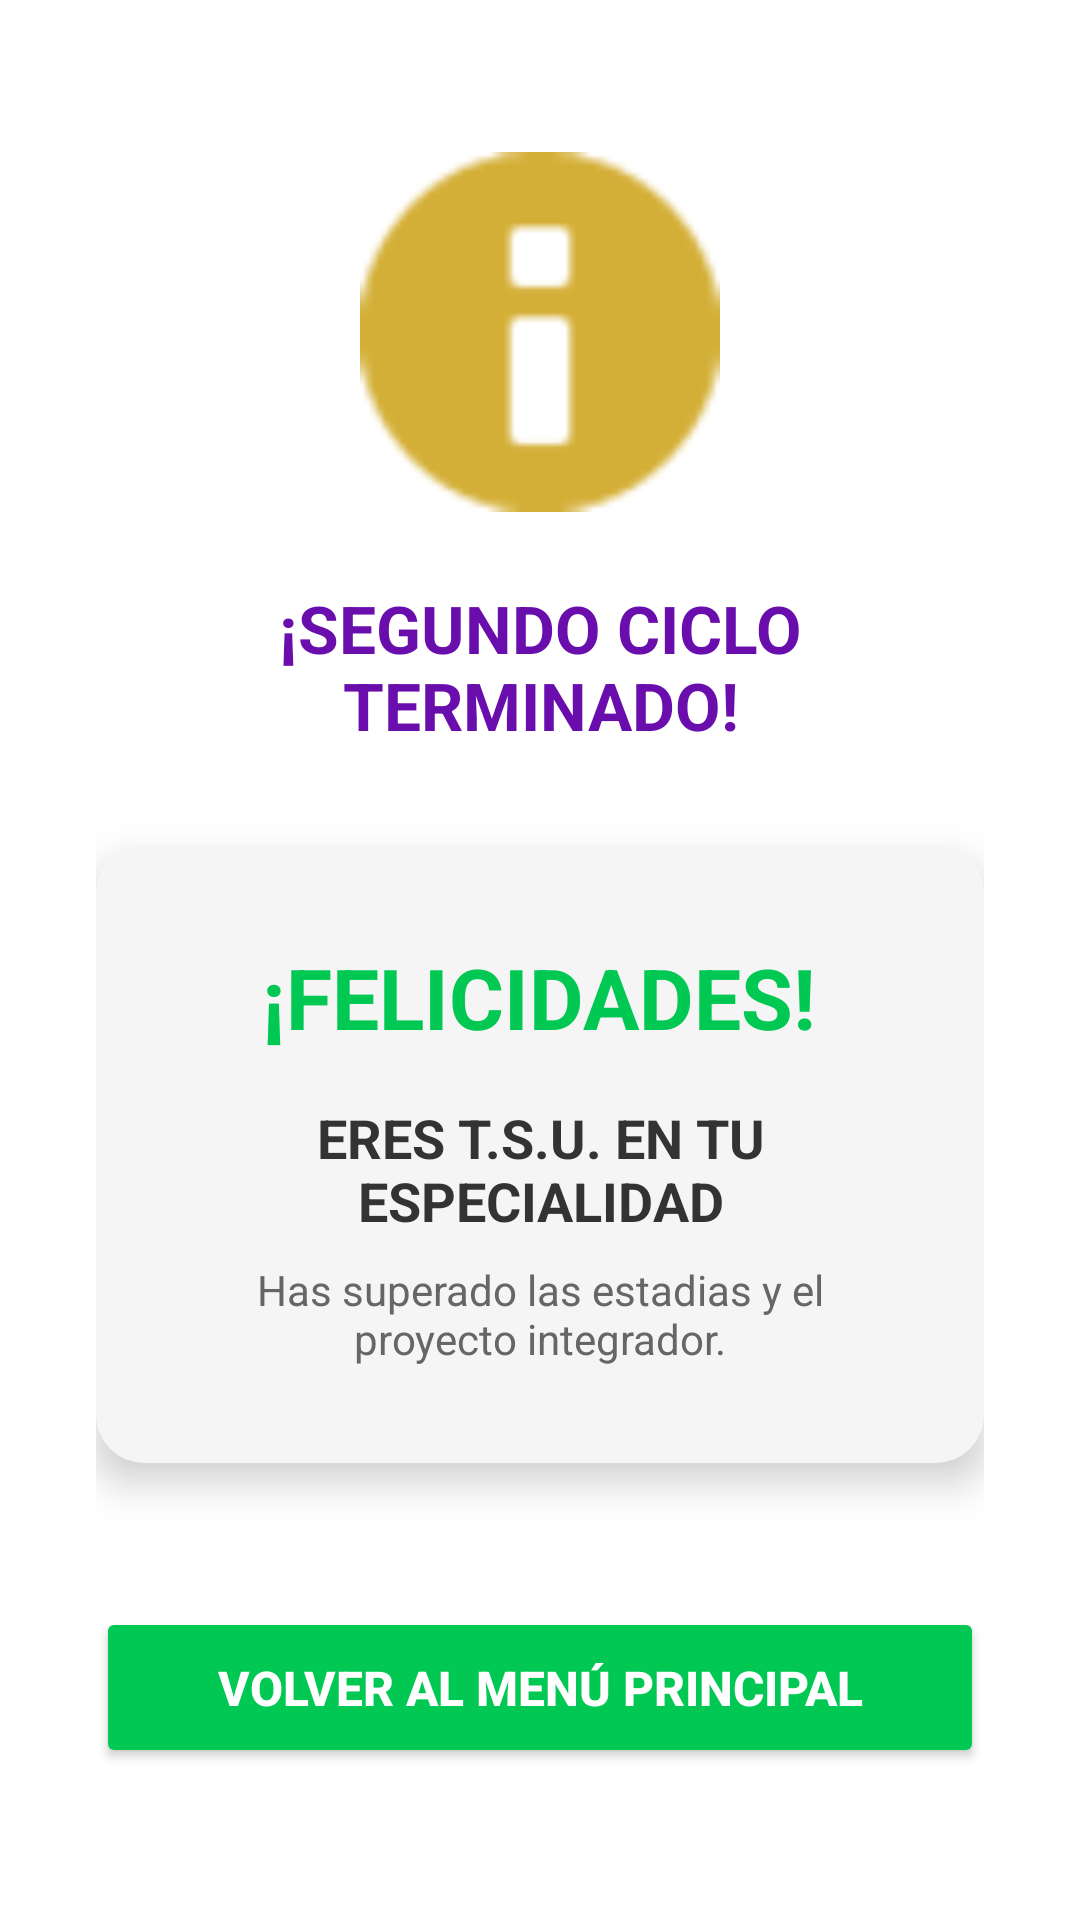

Named icons in this screenshot (1080x1920) and their bounding boxes, (x1, y1, x2, y2):
info: (360, 152, 720, 512)
